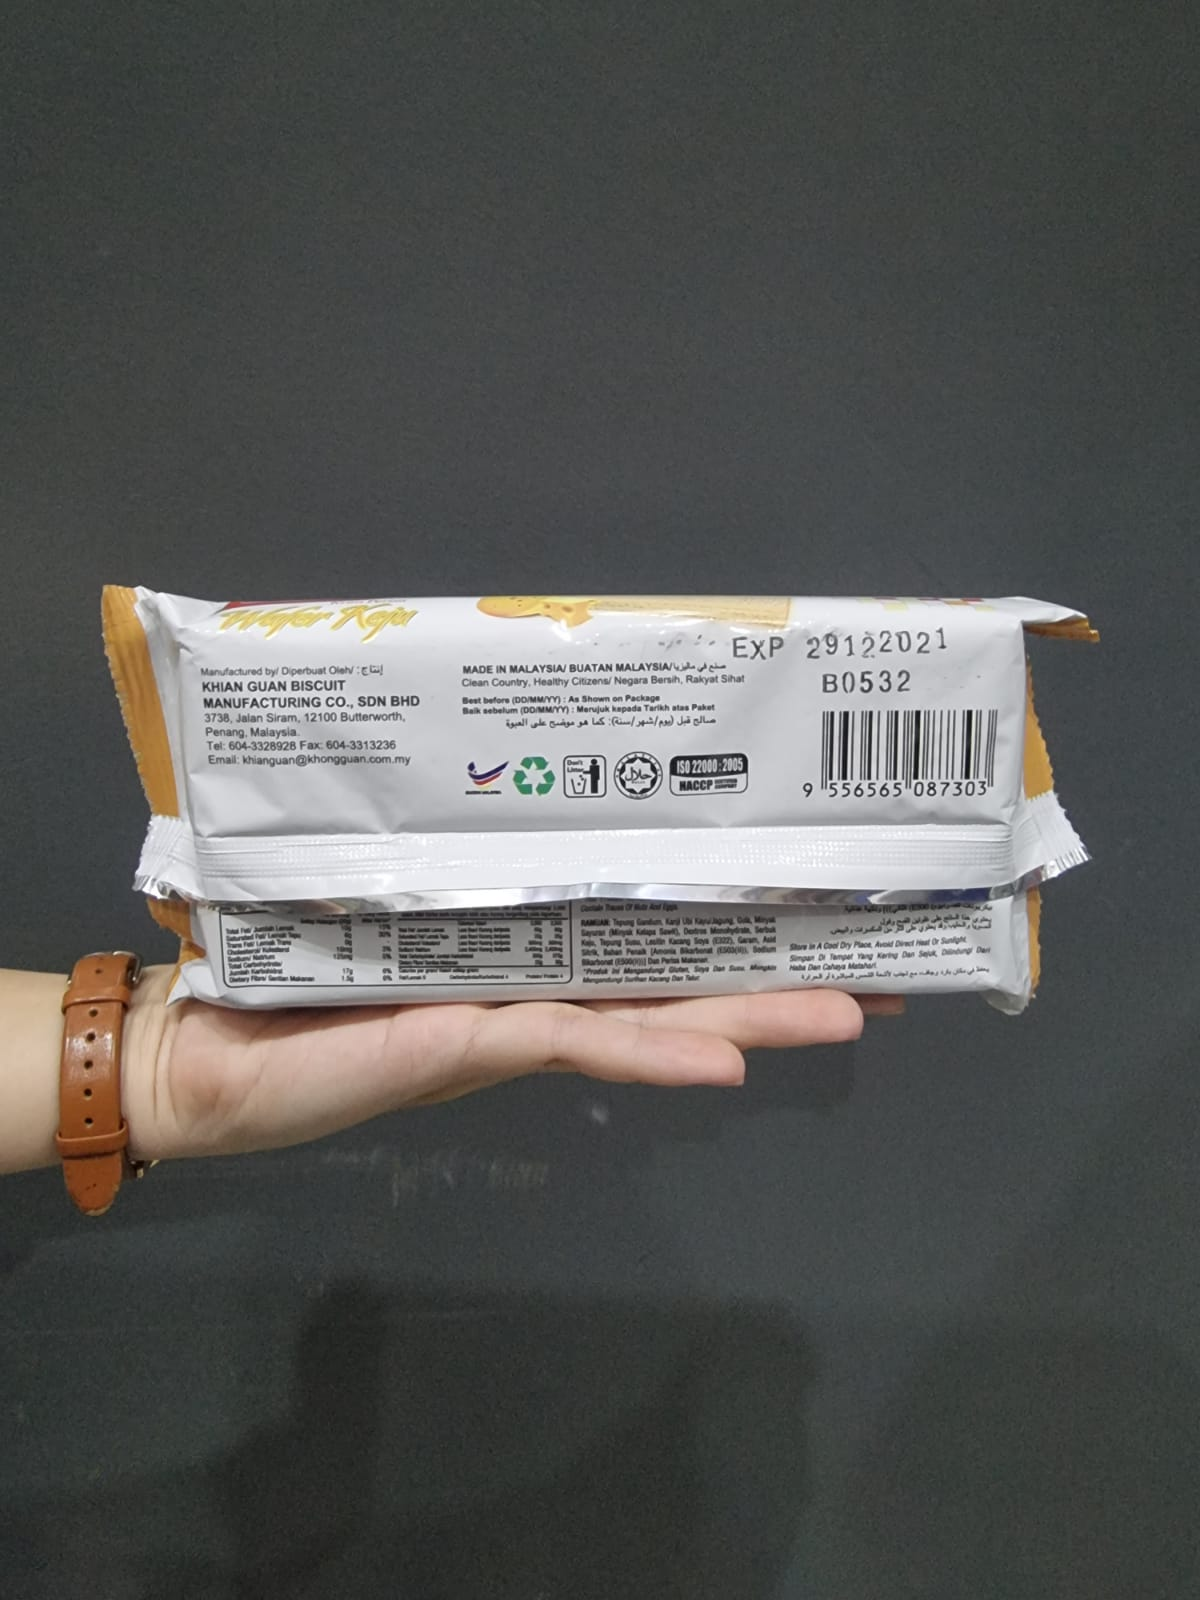Halal: (616, 753, 666, 803)
